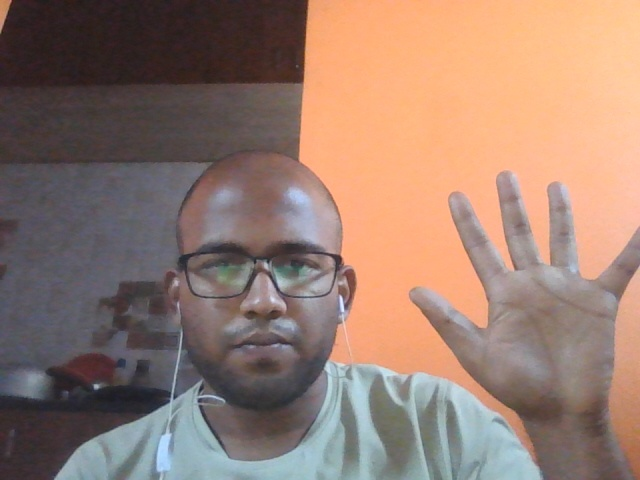hello: (397, 153, 640, 421)
